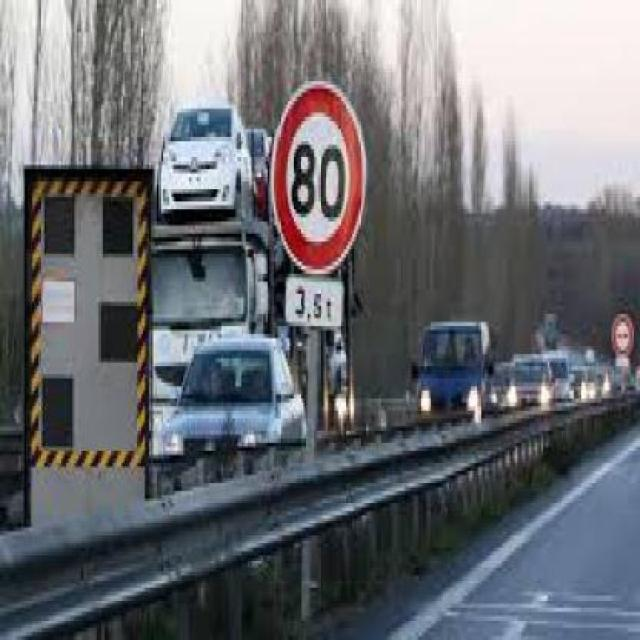forb_speed_over_80: (273, 83, 359, 271)
